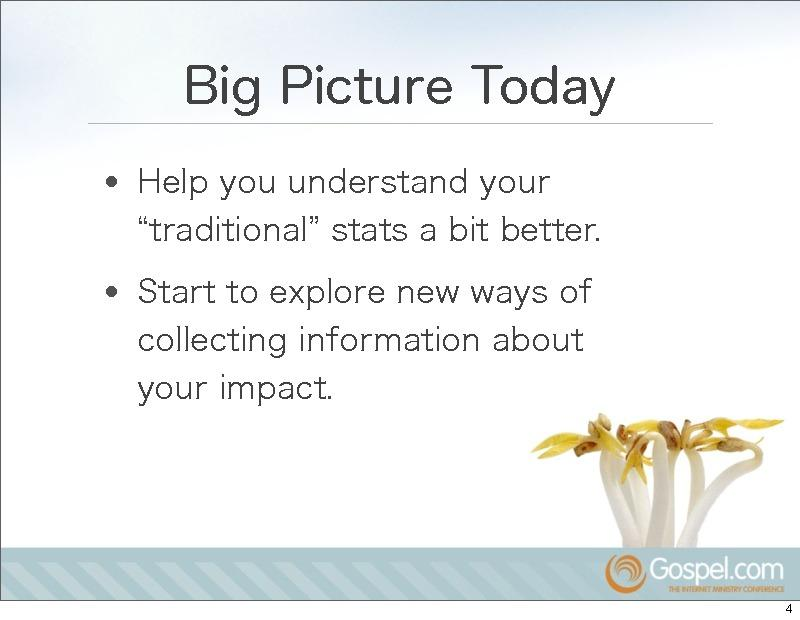paragraph: (129, 152, 694, 456)
title: (183, 42, 636, 129)
